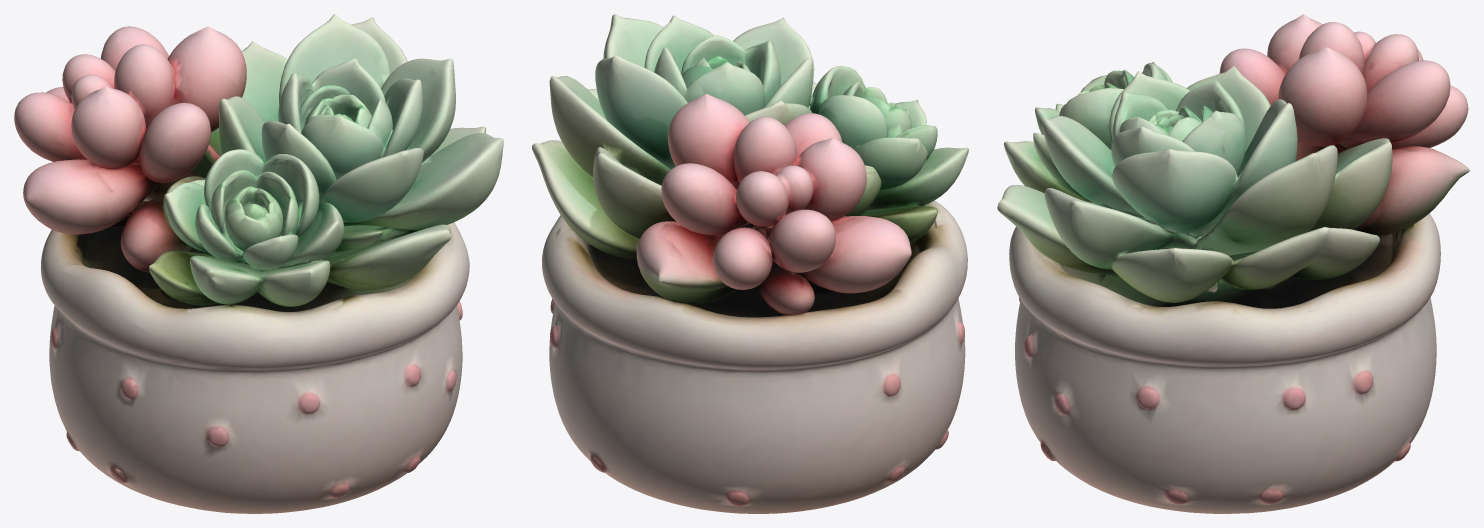
The picture shows the model from 3 angles, left to right: view 1: azimuth 30°, elevation 25°; view 2: azimuth 150°, elevation 25°; view 3: azimuth 270°, elevation 25°; orthographic projection. The views are drawn at different scales.
Visible parts, largest first — view 1: node_0; view 2: node_0; view 3: node_0.
Boxes of the visible parts, left/top/right/bottom form: node_0: left=14, top=14, right=503, bottom=513; node_0: left=532, top=14, right=968, bottom=513; node_0: left=997, top=14, right=1469, bottom=513.
Bounding box in the file's own units: 0.9518 × 0.9281 × 0.9484.
1 material, 1 textured.
